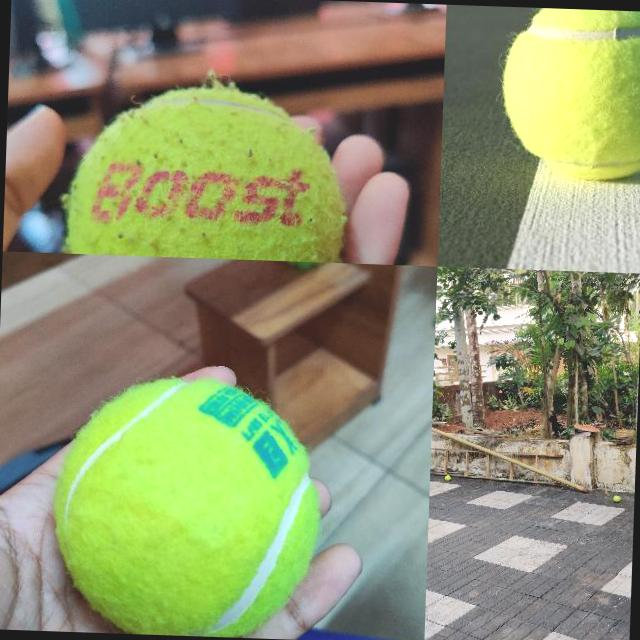Tennis Ball: (49, 374, 324, 639), (63, 81, 348, 262), (498, 6, 640, 178), (613, 496, 620, 502), (444, 474, 449, 480)
